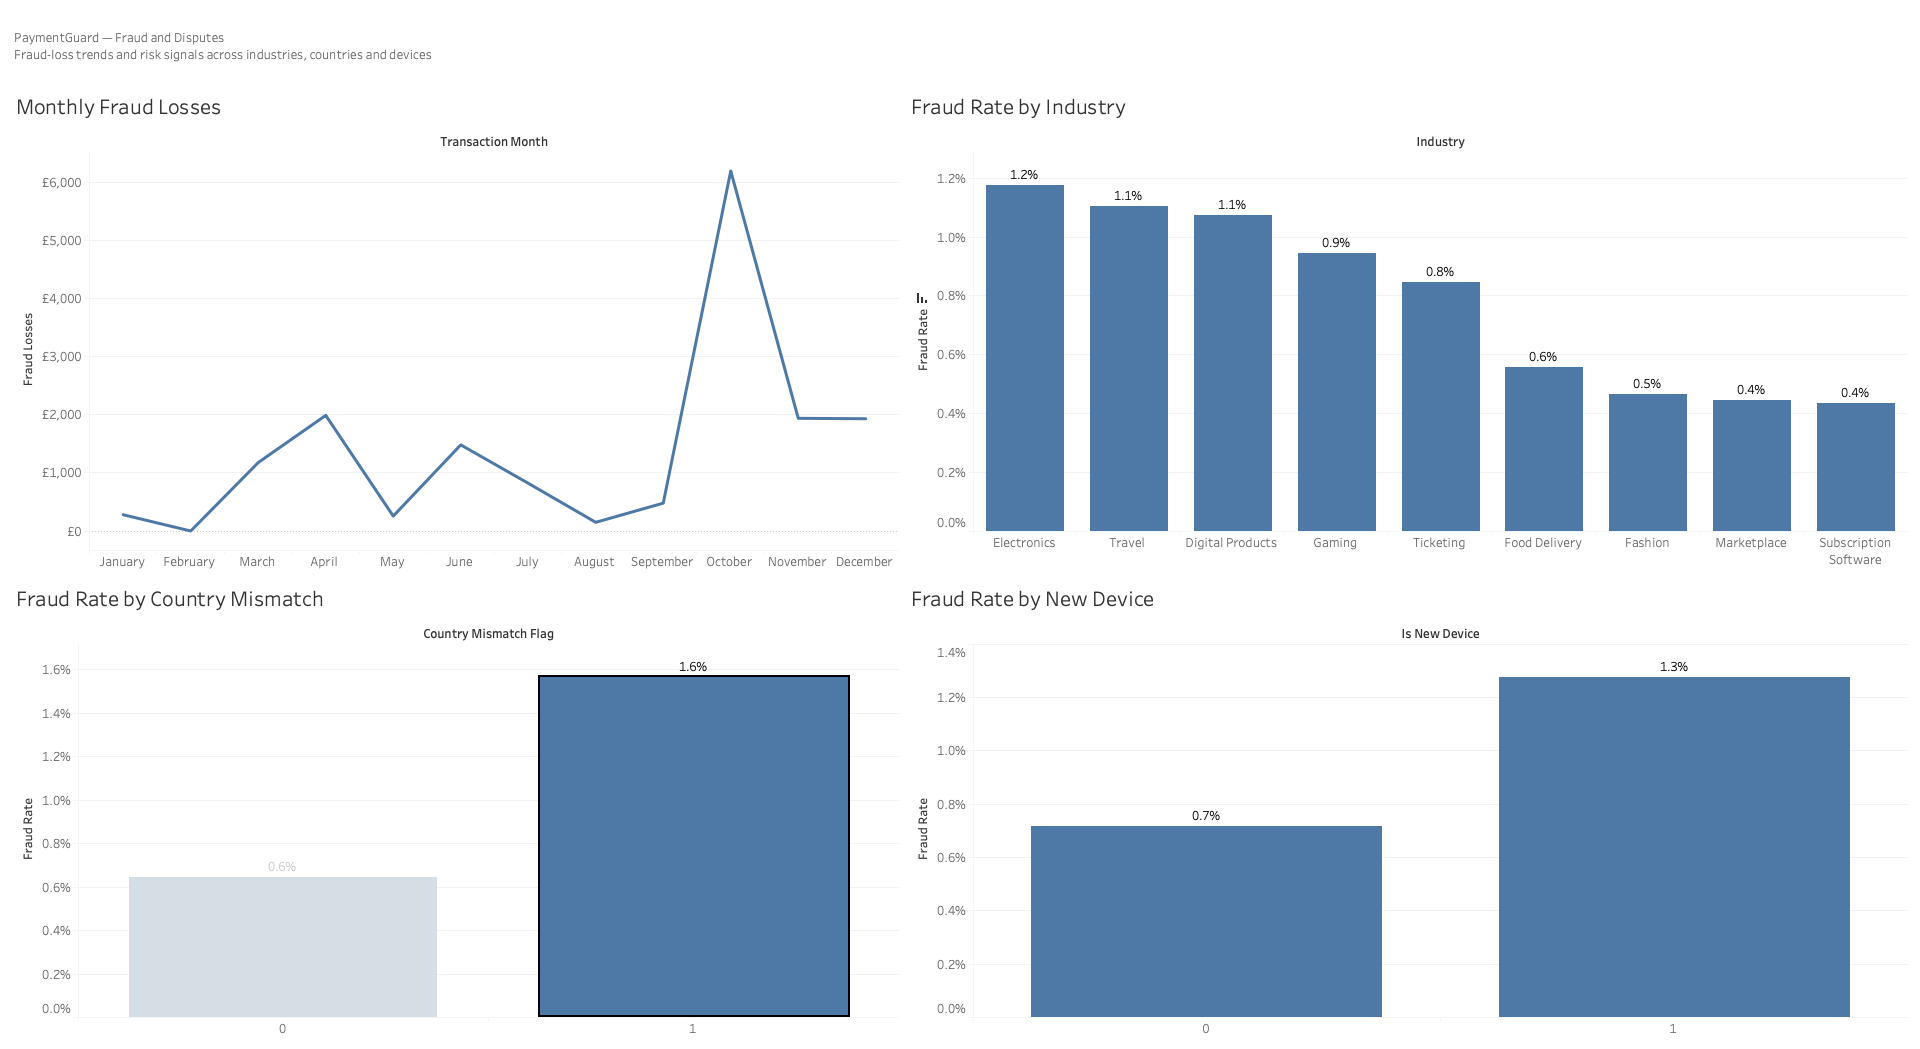

The dashboard page shown, as its layout file describes it:
{"tool":"tableau","page":{"name":"Fraud and Disputes Dashboard","canvas":[1000,1000],"units":"permille","ordinal":1},"visuals":[{"type":"text","box":[4.7,8.1,990.6,72.9]},{"type":"worksheet","title":"Monthly Fraud Losses","mark":"Line","rows":["fraud_losses"],"cols":["transaction_month"],"box":[4.7,81,465.8,467.6]},{"type":"worksheet","title":"Fraud Rate by Industry","mark":"Bar","rows":["Calculation_0157339260346368"],"cols":["industry"],"box":[470.4,81,524.9,467.6]},{"type":"worksheet","title":"Fraud Rate by Country Mismatch","mark":"Bar","rows":["Calculation_0157339260346368"],"cols":["country_mismatch_flag"],"box":[4.7,548.6,465.8,443.3]},{"type":"worksheet","title":"Fraud Rate by New Device","mark":"Bar","rows":["Calculation_0157339260346368"],"cols":["is_new_device"],"box":[470.4,548.6,524.9,443.3]}]}

Visuals, with their boxes on the dashboard's canvas, which has no fixed pixel size, in thousandths of its width and height (x1, y1, x2, y2). These are canvas units, not pixel positions in the 1920x1049 screenshot, which may show the page scaled, cropped or inside an application window:
text: Rect(5, 8, 995, 81)
"Monthly Fraud Losses" worksheet (Line marks): Rect(5, 81, 470, 549)
"Fraud Rate by Industry" worksheet (Bar marks): Rect(470, 81, 995, 549)
"Fraud Rate by Country Mismatch" worksheet (Bar marks): Rect(5, 549, 470, 992)
"Fraud Rate by New Device" worksheet (Bar marks): Rect(470, 549, 995, 992)
